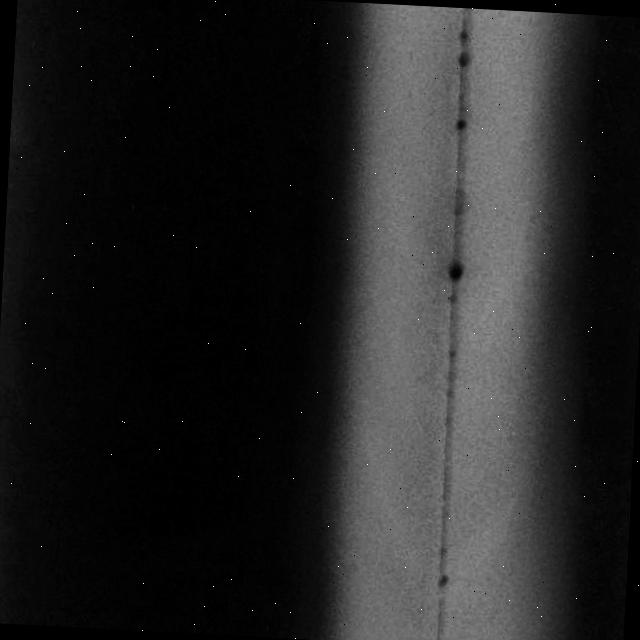LoP-LoF: (386, 7, 503, 640)
